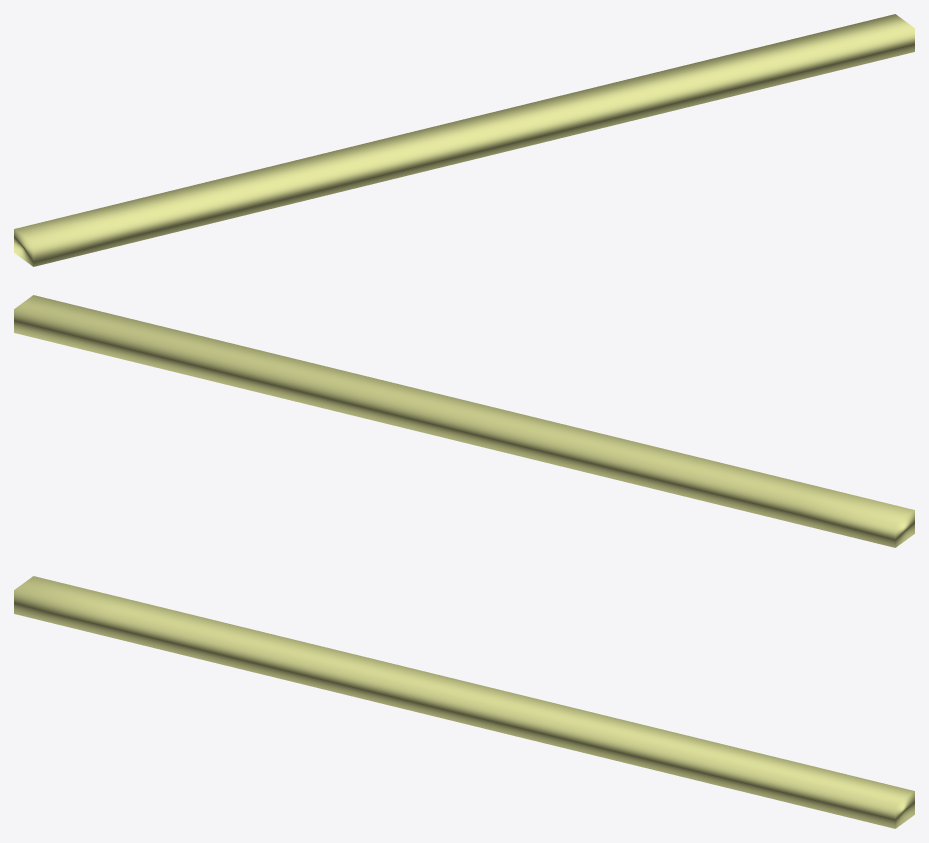
File: gringer-chopped-long1-pc.fbx
The picture shows the model from 3 angles, top to bottom: view 1: azimuth 30°, elevation 25°; view 2: azimuth 150°, elevation 25°; view 3: azimuth 330°, elevation 25°; orthographic projection.
Visible parts, largest first — view 1: Cube.004; view 2: Cube.004; view 3: Cube.004.
Part boxes in pixels (x1,y1,x2,y2): Cube.004: [14, 14, 914, 266]; Cube.004: [14, 295, 914, 547]; Cube.004: [14, 576, 914, 828].
Size of the model in its own units: 42.18 by 1.08 by 1.62.
